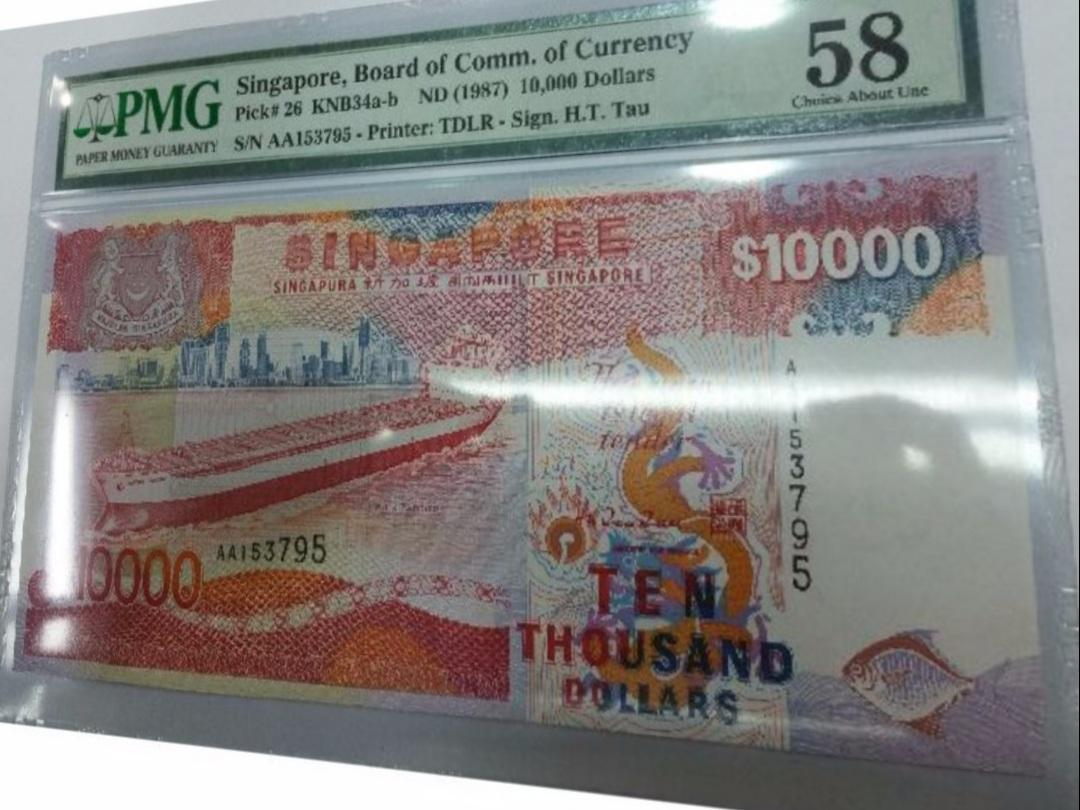10000SingaporeDollar: (30, 183, 1003, 737)
